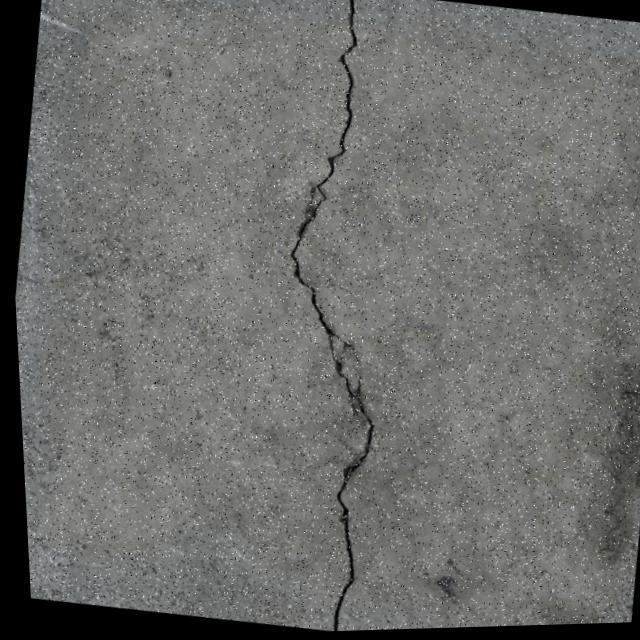Crack: (213, 0, 457, 635)
